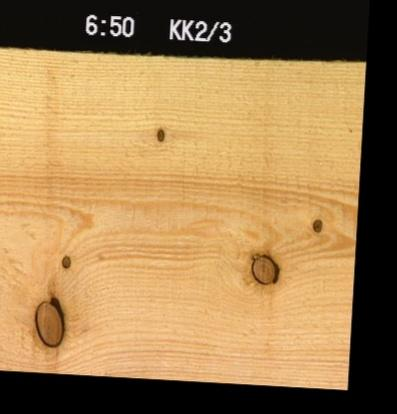dry_knot: (59, 252, 71, 270), (310, 216, 321, 233), (155, 126, 165, 143)
